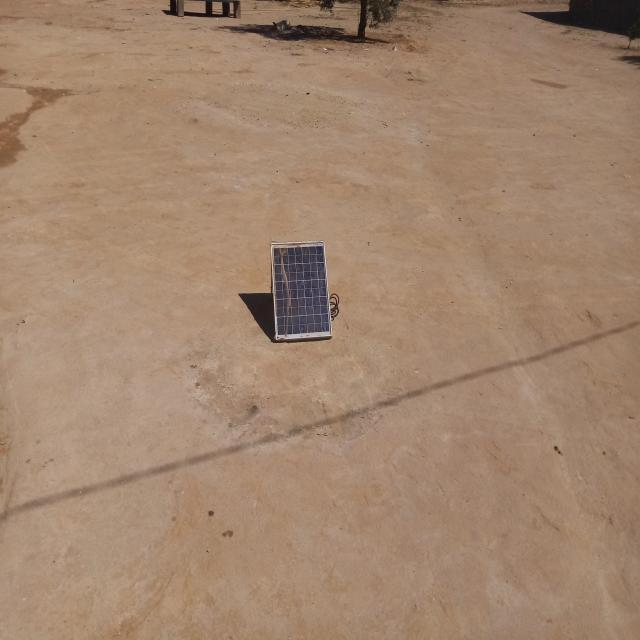faulty: (271, 241, 332, 340)
